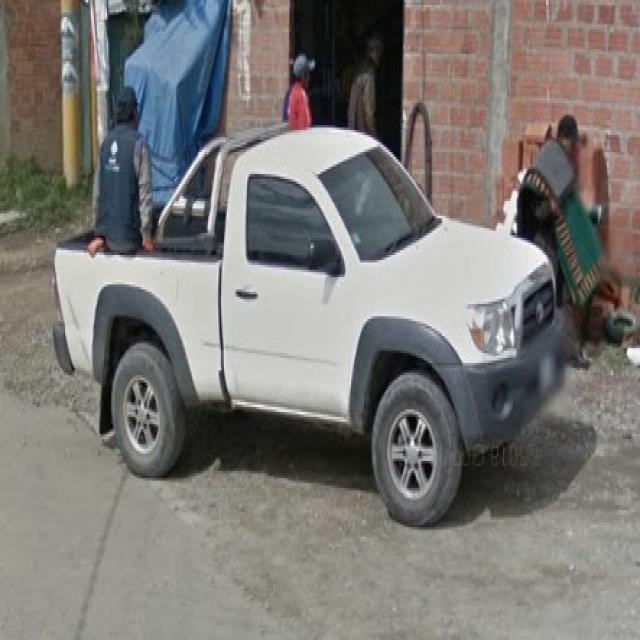Car: (50, 140, 562, 522)
